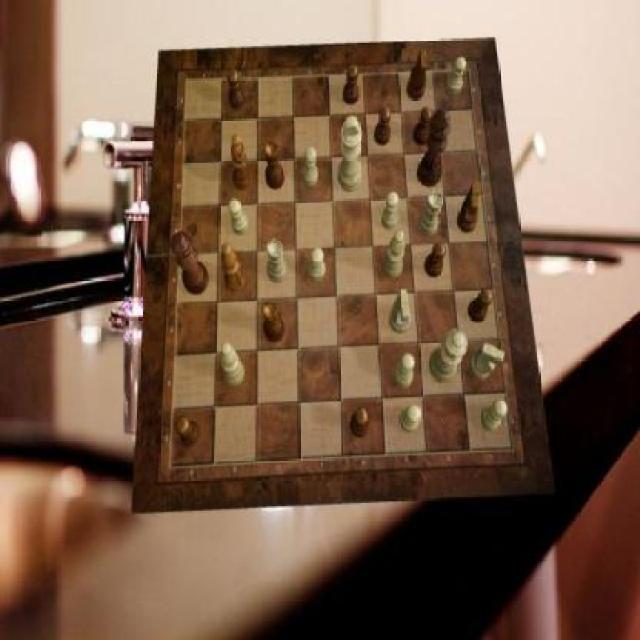bishop: (222, 243, 246, 294), (232, 136, 252, 192)
black-bishop: (417, 109, 451, 188)
black-king: (457, 181, 480, 234), (408, 49, 428, 100)
black-knight: (469, 289, 494, 323), (414, 106, 434, 146), (425, 242, 447, 278), (177, 417, 201, 448), (374, 106, 391, 146), (228, 69, 245, 109), (343, 64, 360, 104), (351, 406, 368, 439)
black-pawn: (170, 230, 208, 294)
black-queen: (263, 300, 286, 342), (266, 143, 286, 191)
black-rook: (220, 341, 245, 387), (383, 231, 406, 280)
white-bishop: (338, 116, 362, 192)
white-king: (471, 343, 506, 381), (389, 289, 412, 335)
white-knight: (480, 398, 508, 432), (445, 57, 467, 95), (229, 198, 249, 234), (396, 352, 416, 387), (382, 192, 399, 231), (398, 406, 421, 434), (302, 148, 318, 186), (308, 248, 325, 282)
white-pawn: (429, 328, 468, 382)
white-queen: (418, 191, 444, 236), (268, 238, 288, 282)
